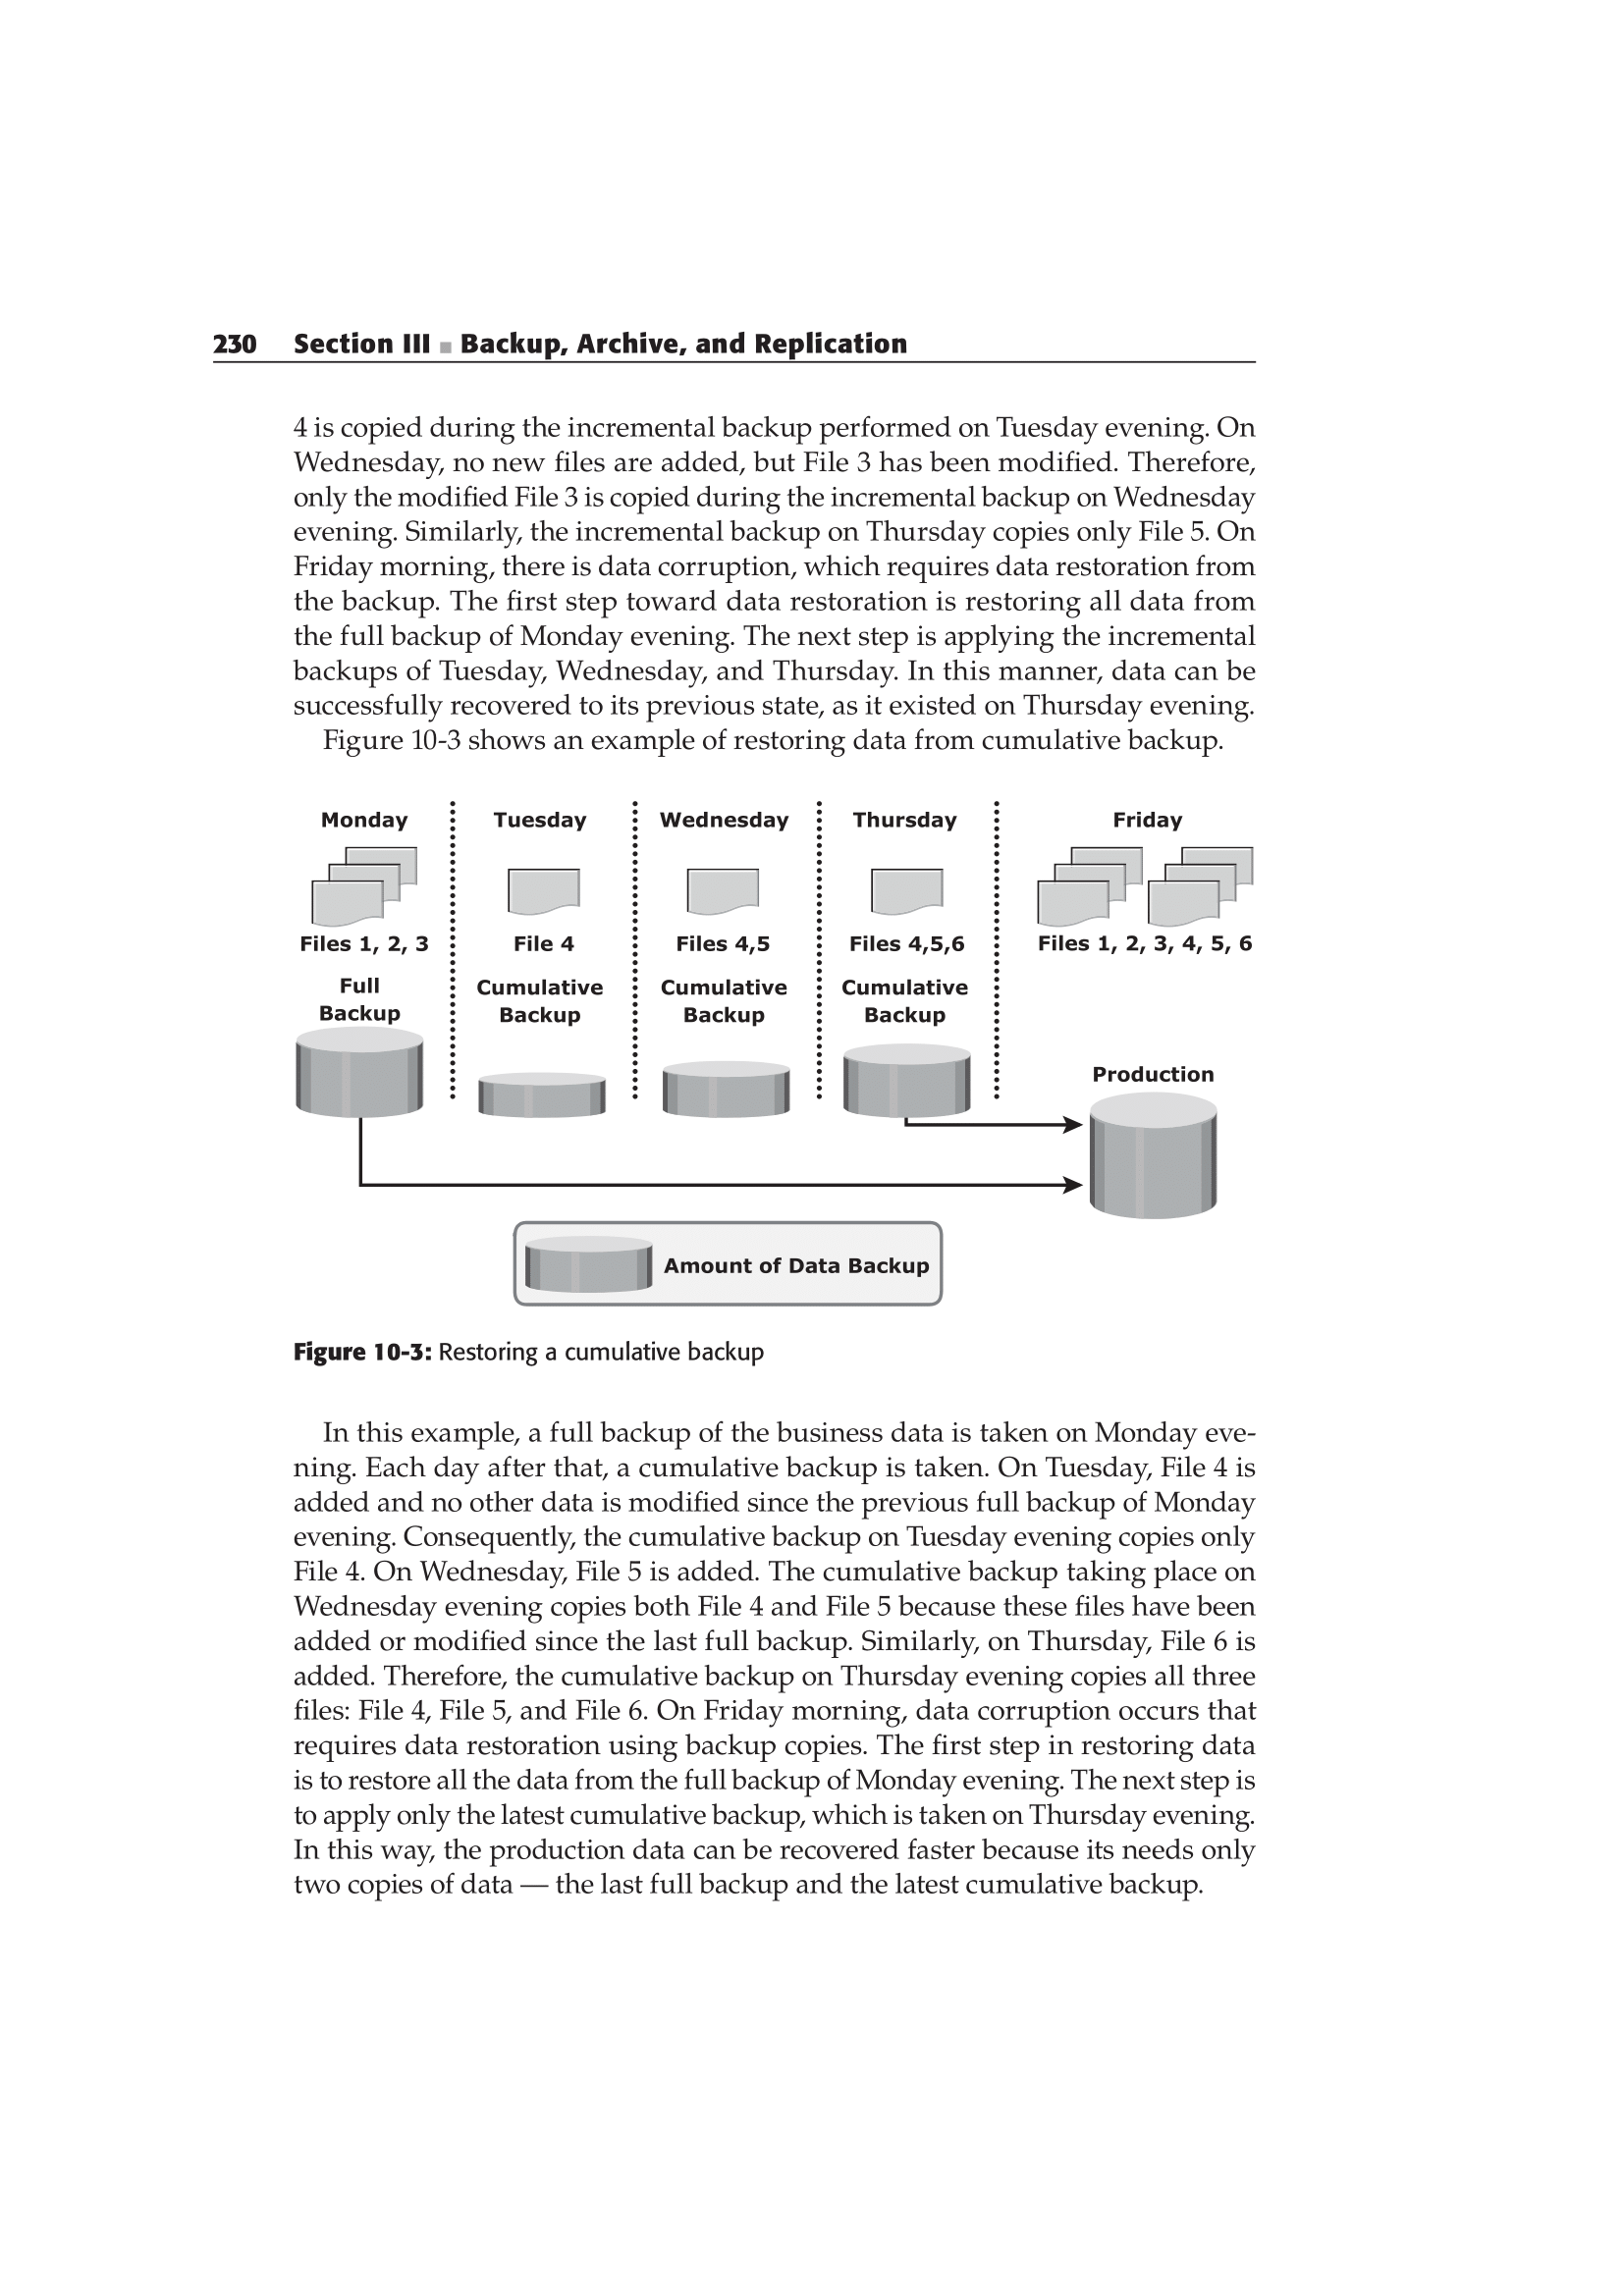Image: (274, 781, 1259, 1320)
Paragraph: (279, 1406, 1265, 1903), (274, 402, 1265, 725), (214, 311, 917, 374), (311, 730, 1233, 767), (283, 1329, 785, 1378)
